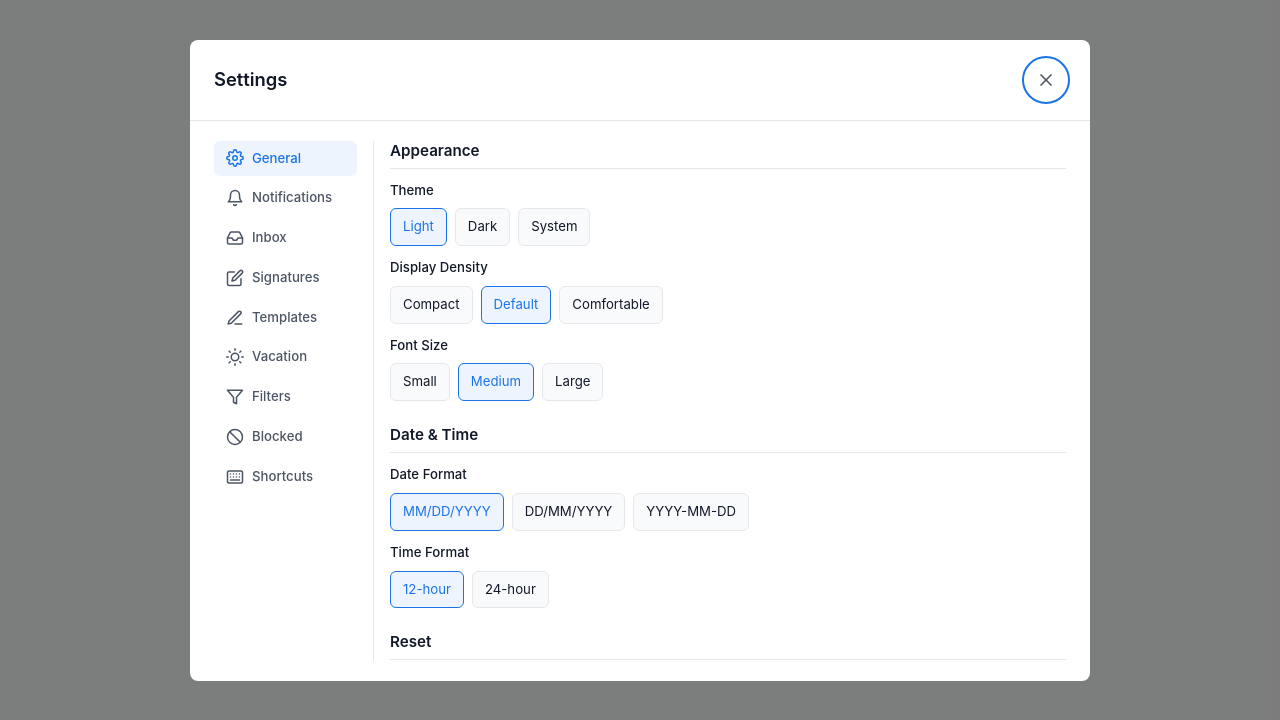
Test case: SettingsModal - Signature edit/delete (lines 491-592) › saving edited signature updates the signature
Step 1. Click the button "Signatures" → click(286, 278), box [214,260,357,296]
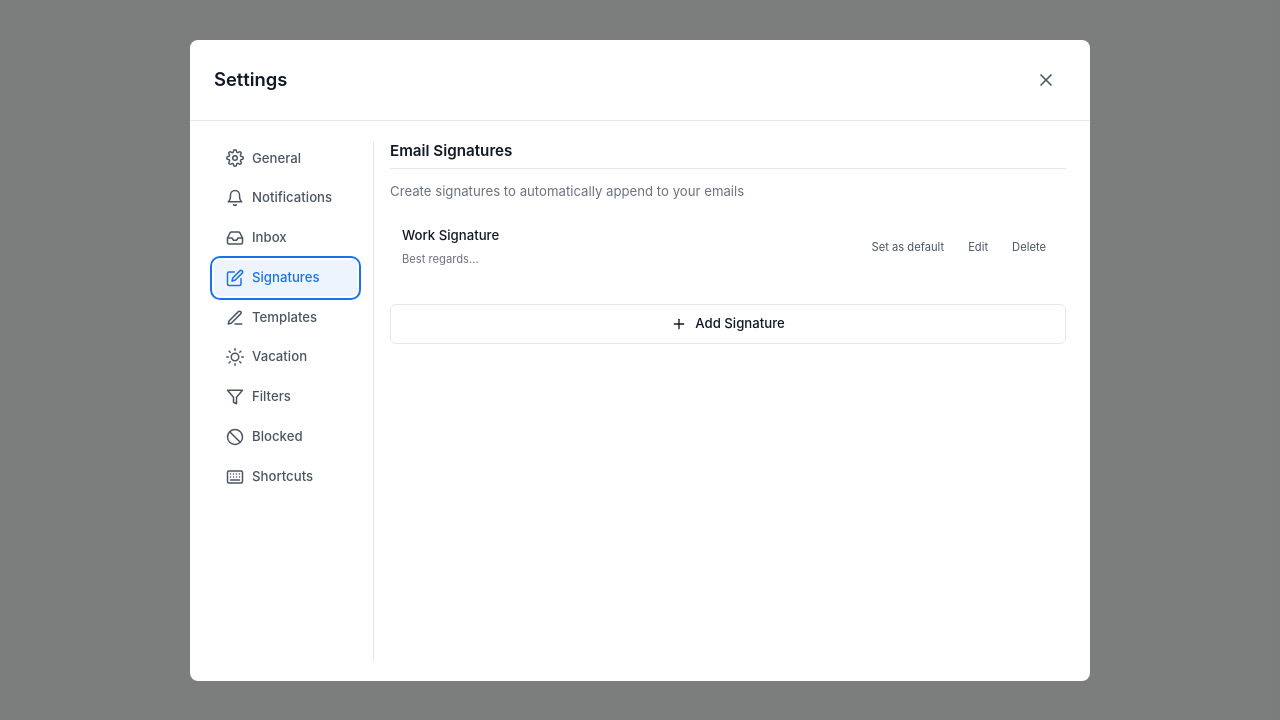
Now the text "Work Signature" is shown, box [402,227,499,243]
Step 2. Click the button "Edit" → click(978, 247), box [960,234,996,259]
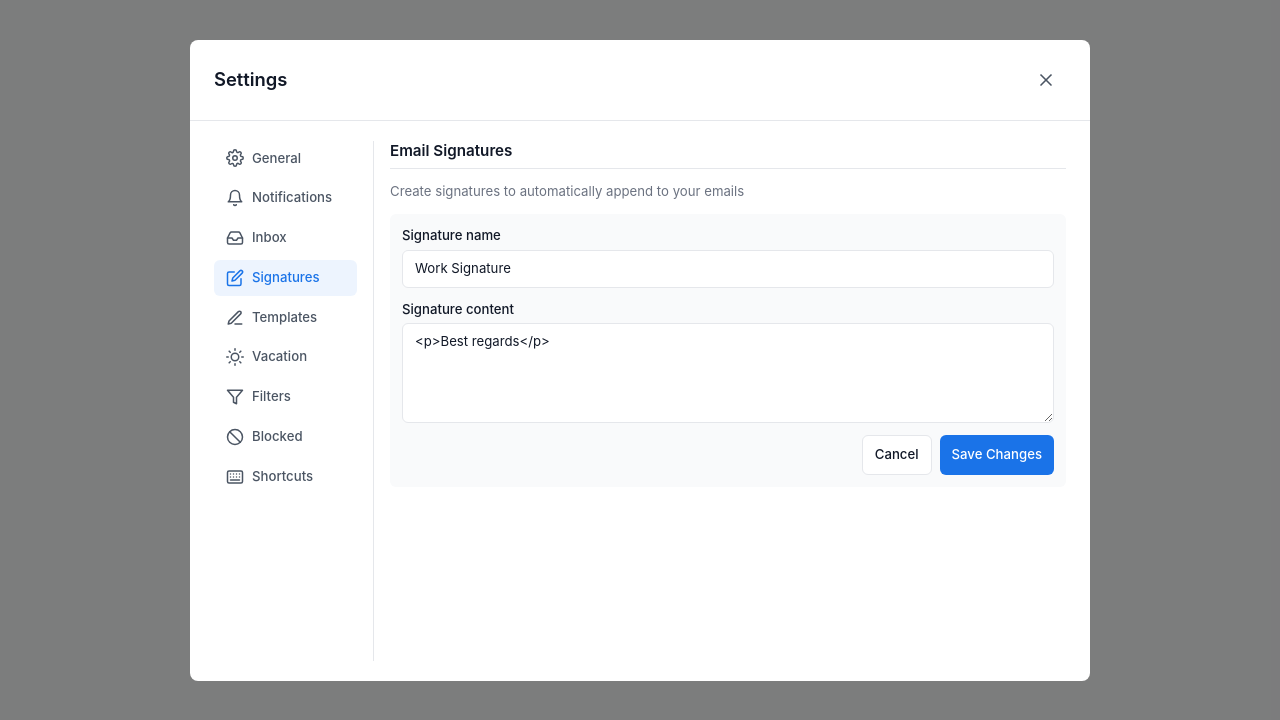
Now the button "Save Changes" is shown
Step 3. Click the button "Save Changes" → click(997, 455), box [940,435,1054,475]
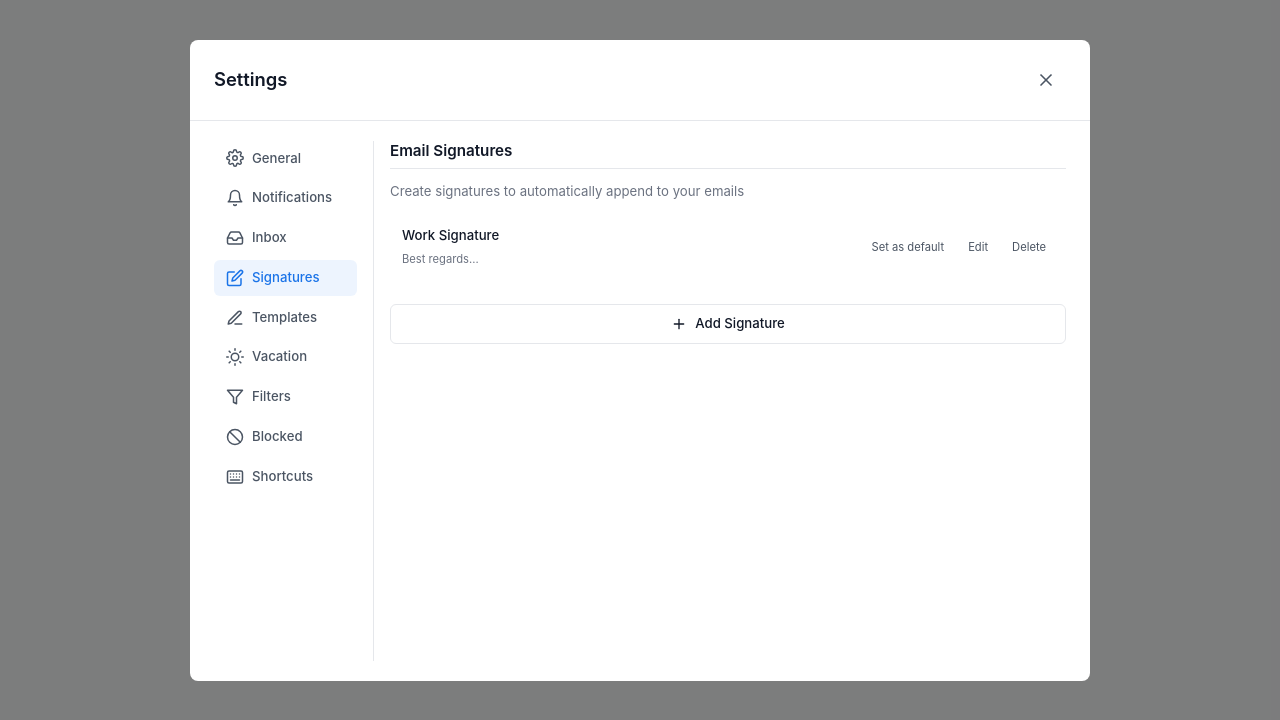
Now the button "Save Changes" is gone
